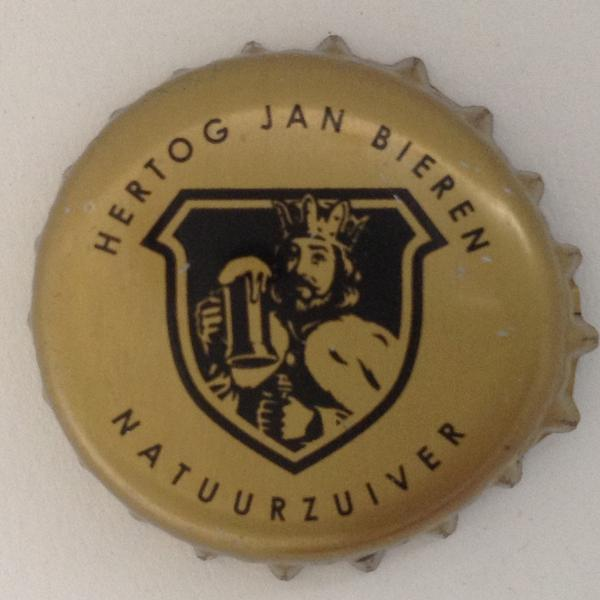hertog jan: (20, 29, 598, 587)
